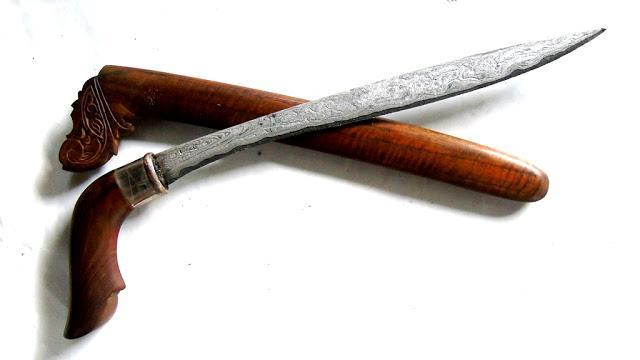facao: (64, 34, 590, 338)
